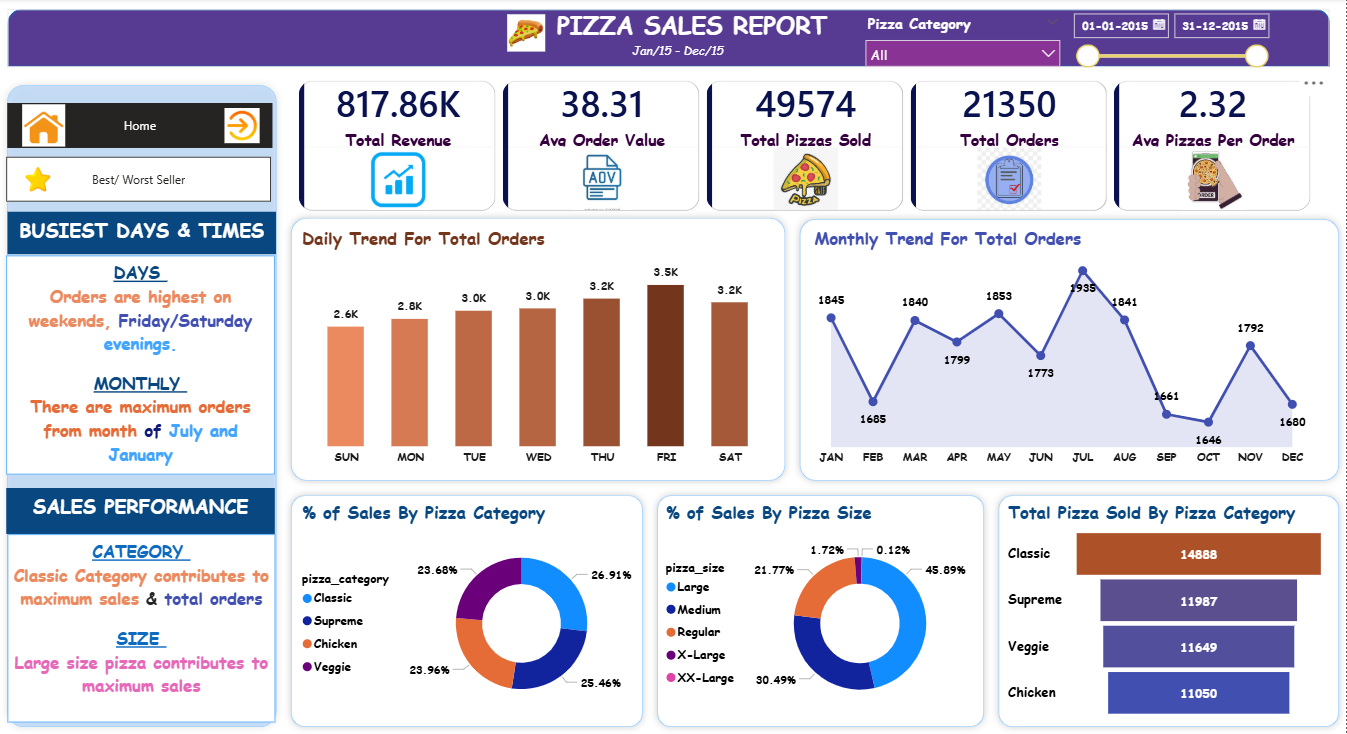

The page's visual inventory and layout, read from the dashboard file:
{"tool":"powerbi","page":{"name":"Home","canvas":[1500,820],"ordinal":0},"visuals":[{"type":"shape","box":[0,89.1,316.1,731.2],"z":0},{"type":"cardVisual","fields":{"Data":["pizza_sales.Total Revenue","pizza_sales.Avg Order Value","pizza_sales.Total Pizzas Sold","pizza_sales.Total Orders","pizza_sales.Avg Pizzas Per Order"]},"box":[316.1,75.2,1165.7,179.7],"z":1000},{"type":"shape","box":[8.4,12.5,1473.4,64.1],"z":2000},{"type":"textbox","box":[615.3,5.6,315.3,54.2],"z":3000},{"type":"textbox","box":[698.6,44.4,147.2,30.6],"z":4000},{"type":"image","box":[557.1,18.1,58.5,41.8],"z":5000},{"type":"shape","box":[316.1,236.8,566.8,309.2],"z":6000},{"type":"columnChart","title":"Daily Trend For Total Orders","fields":{"Category":["pizza_sales.Order Day"],"Y":["pizza_sales.Total Orders"]},"box":[331.5,254.9,537.6,275.7],"z":7000},{"type":"shape","box":[883,238.1,617,307.8],"z":8000},{"type":"areaChart","title":"Monthly Trend For Total Orders","fields":{"Category":["pizza_sales.Order Month"],"Y":["pizza_sales.Total Orders"]},"box":[902.5,254.9,561.2,275.7],"z":9000},{"type":"shape","box":[316.1,545.9,408.1,274.4],"z":10000},{"type":"shape","box":[724.2,545.9,380.2,274.4],"z":11000},{"type":"shape","box":[1104.4,545.9,395.5,274.4],"z":12000},{"type":"donutChart","title":"% of Sales By Pizza Category","fields":{"Category":["pizza_sales.pizza_category"],"Y":["pizza_sales.Total Revenue"]},"box":[331.5,559.9,380.2,247.9],"z":13000},{"type":"donutChart","title":"% of Sales By Pizza Size","fields":{"Y":["pizza_sales.Total Revenue"],"Category":["pizza_sales.pizza_size"]},"box":[736.7,559.9,355.1,247.9],"z":14000},{"type":"funnel","title":"Total Pizza Sold By Pizza Category","fields":{"Category":["pizza_sales.pizza_category"],"Y":["pizza_sales.Total Pizzas Sold"]},"box":[1118.3,559.9,363.5,247.9],"z":15000},{"type":"textbox","box":[8.4,238.1,299.4,47.4],"z":16000},{"type":"textbox","box":[7,286.9,299.4,243.7],"z":17000},{"type":"textbox","box":[7,545.9,299.4,51.5],"z":18000},{"type":"textbox","box":[8.3,597.2,298.6,209.7],"z":19000},{"type":"slicer","fields":{"Values":["pizza_sales.pizza_category"]},"box":[954.2,12.5,237.5,65.3],"z":20000},{"type":"slicer","fields":{"Values":["pizza_sales.order_date"]},"box":[1183.3,6.9,237.5,75],"z":21000},{"type":"pageNavigator","box":[8.4,117,295.2,50.1],"z":22000},{"type":"pageNavigator","box":[7,176.9,295.2,50.1],"z":23000},{"type":"image","box":[249.3,122.6,40.4,39],"z":24000},{"type":"image","box":[22.3,118.4,52.9,47.4],"z":25000},{"type":"image","box":[22.3,176.9,40.4,50.1],"z":26000}]}

Visuals, with their boxes in screenshot pixels (x1, y1, x2, y2), scaled from the page's 1500x820 canvas onto the 1347x734 screenshot:
shape: locate(0, 80, 284, 733)
cardVisual - pizza_sales.Total Revenue x pizza_sales.Avg Order Value: locate(284, 67, 1331, 228)
shape: locate(8, 11, 1331, 69)
textbox: locate(553, 5, 836, 54)
textbox: locate(627, 40, 760, 67)
image: locate(500, 16, 553, 54)
shape: locate(284, 212, 793, 489)
"Daily Trend For Total Orders" columnChart: locate(298, 228, 780, 475)
shape: locate(793, 213, 1346, 489)
"Monthly Trend For Total Orders" areaChart: locate(810, 228, 1314, 475)
shape: locate(284, 489, 650, 733)
shape: locate(650, 489, 992, 733)
shape: locate(992, 489, 1346, 733)
"% of Sales By Pizza Category" donutChart: locate(298, 501, 639, 723)
"% of Sales By Pizza Size" donutChart: locate(662, 501, 980, 723)
"Total Pizza Sold By Pizza Category" funnel: locate(1004, 501, 1331, 723)
textbox: locate(8, 213, 276, 256)
textbox: locate(6, 257, 275, 475)
textbox: locate(6, 489, 275, 535)
textbox: locate(7, 535, 276, 722)
slicer - pizza_sales.pizza_category: locate(857, 11, 1070, 70)
slicer - pizza_sales.order_date: locate(1063, 6, 1276, 73)
pageNavigator: locate(8, 105, 273, 150)
pageNavigator: locate(6, 158, 271, 203)
image: locate(224, 110, 260, 145)
image: locate(20, 106, 68, 148)
image: locate(20, 158, 56, 203)
